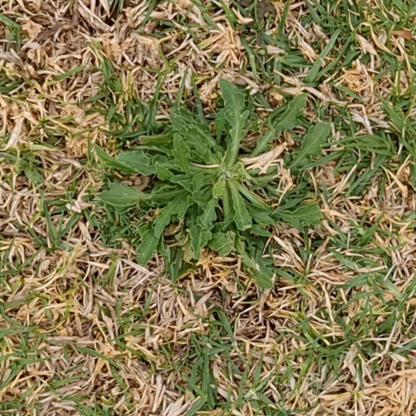Weeds: (91, 79, 330, 296)
